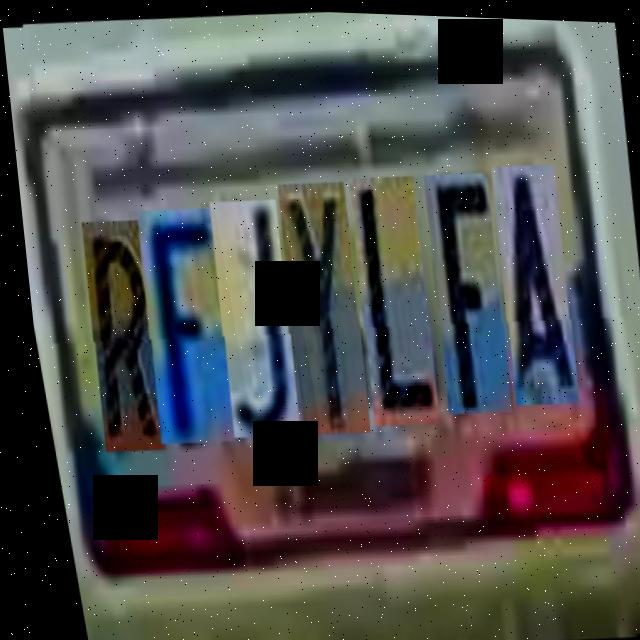A: (478, 159, 591, 404)
F: (122, 204, 246, 445), (410, 168, 523, 413)
J: (195, 195, 312, 438)
L: (335, 170, 452, 425)
R: (68, 217, 175, 453)
Y: (263, 177, 383, 435)
